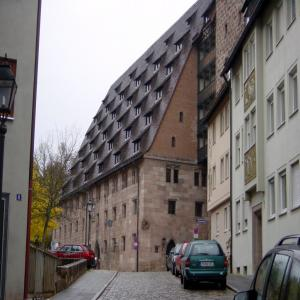Vehicle-registration-plate: (201, 263, 214, 268)
